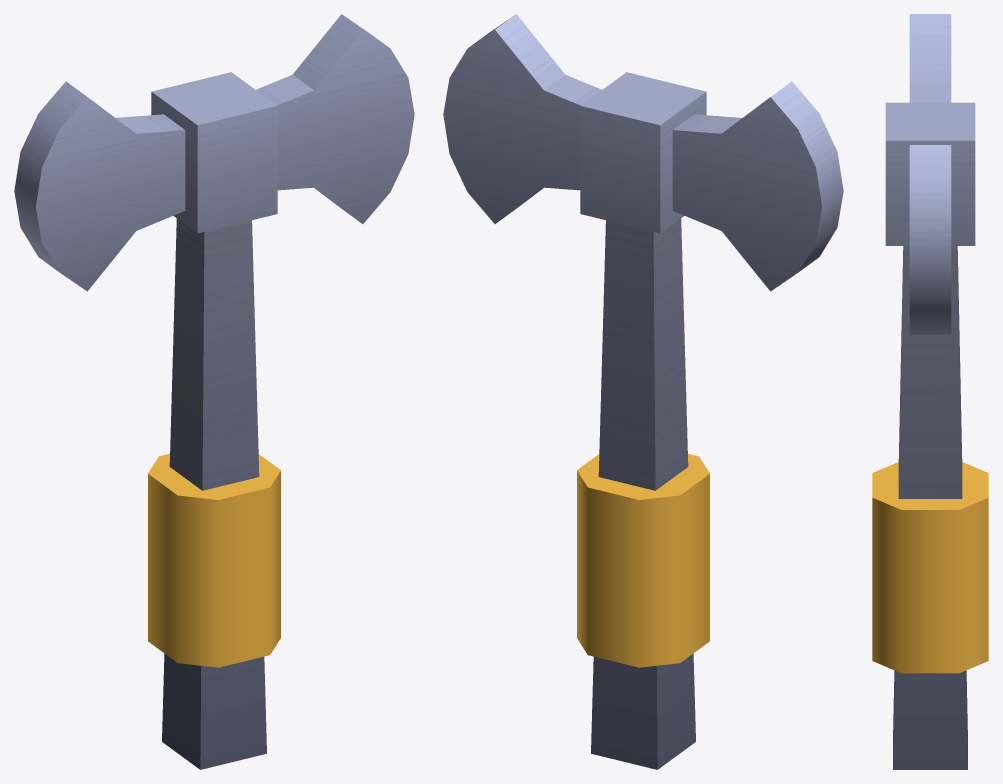
The model's file is machado.glb.
3 views of the same model, side by side, from view 1: azimuth 30°, elevation 25°; view 2: azimuth 150°, elevation 25°; view 3: azimuth 270°, elevation 25° (orthographic). The views are drawn at different scales.
Visible parts, largest first — view 1: tool-axe-upgraded; view 2: tool-axe-upgraded; view 3: tool-axe-upgraded.
Boxes of the visible parts, x1,y1,x2,y2 form: tool-axe-upgraded: (14,14,414,769); tool-axe-upgraded: (443,14,843,769); tool-axe-upgraded: (872,14,988,769).
Bounding box in the file's own units: 0.1466 × 0.256 × 0.04.
1 material, 1 textured.
